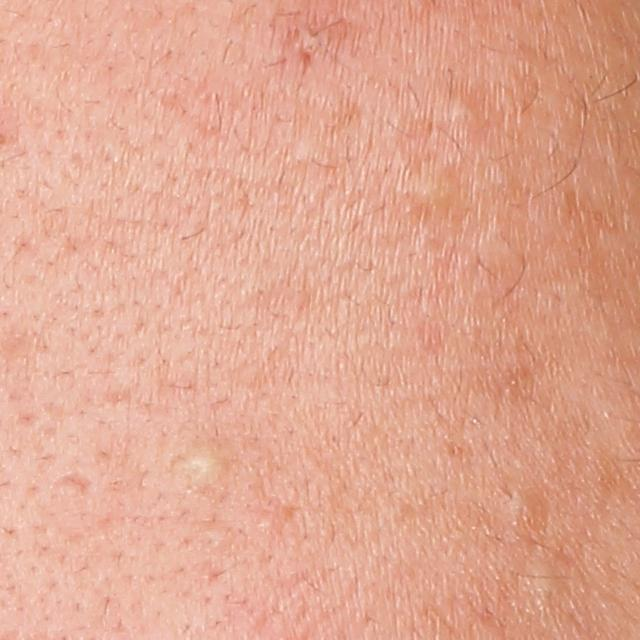atrophic_scar: (49, 468, 96, 495)
comedo: (398, 164, 463, 211), (171, 444, 229, 494), (526, 564, 570, 599)
